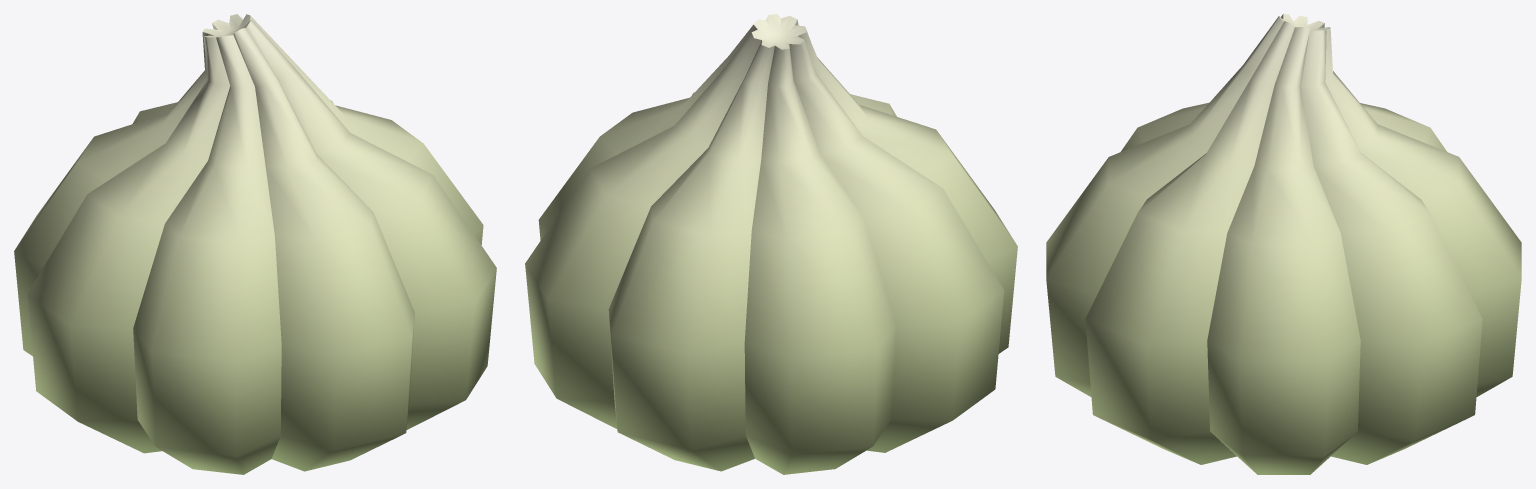
Rendered from Garlic_02.glb.
3 renders of one model, left to right at view 1: azimuth 30°, elevation 25°; view 2: azimuth 150°, elevation 25°; view 3: azimuth 270°, elevation 25°, orthographic. The views are drawn at different scales.
Visible parts, largest first — view 1: Garlic_02; view 2: Garlic_02; view 3: Garlic_02.
Boxes of the visible parts, <box> form: Garlic_02: <box>14,14,496,474</box>; Garlic_02: <box>525,14,1017,474</box>; Garlic_02: <box>1046,14,1521,474</box>.
Size of the model in its own units: 0.1429 by 0.1375 by 0.1429.
Materials: 1 (1 with a texture image).
